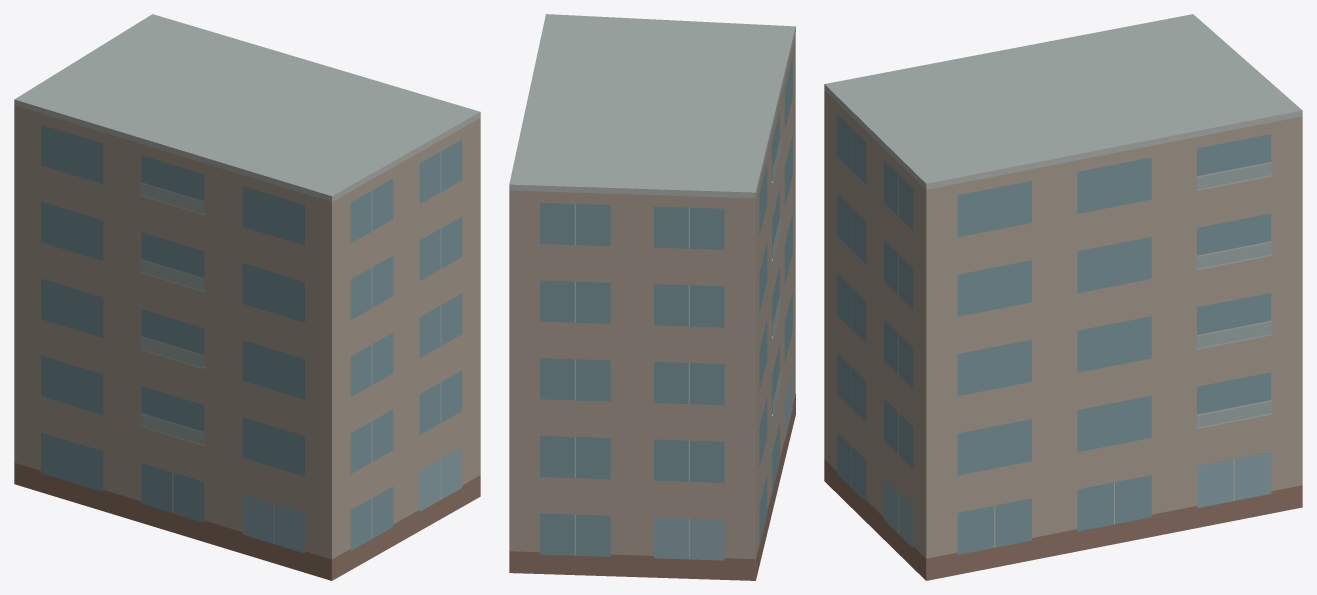
The model's file is survey-upis-32879156.glb.
3 views of the same model, side by side, from view 1: azimuth 30°, elevation 25°; view 2: azimuth 150°, elevation 25°; view 3: azimuth 270°, elevation 25° (orthographic). The views are drawn at different scales.
Parts seen in each view (by area): view 1: survey-upis-32879156.tmp; view 2: survey-upis-32879156.tmp; view 3: survey-upis-32879156.tmp.
Part boxes in pixels (bbox=[...]): survey-upis-32879156.tmp: bbox=[14, 14, 480, 580]; survey-upis-32879156.tmp: bbox=[509, 14, 795, 580]; survey-upis-32879156.tmp: bbox=[824, 14, 1302, 580].
Size of the model in its own units: 14.78 by 16.1 by 17.58.
